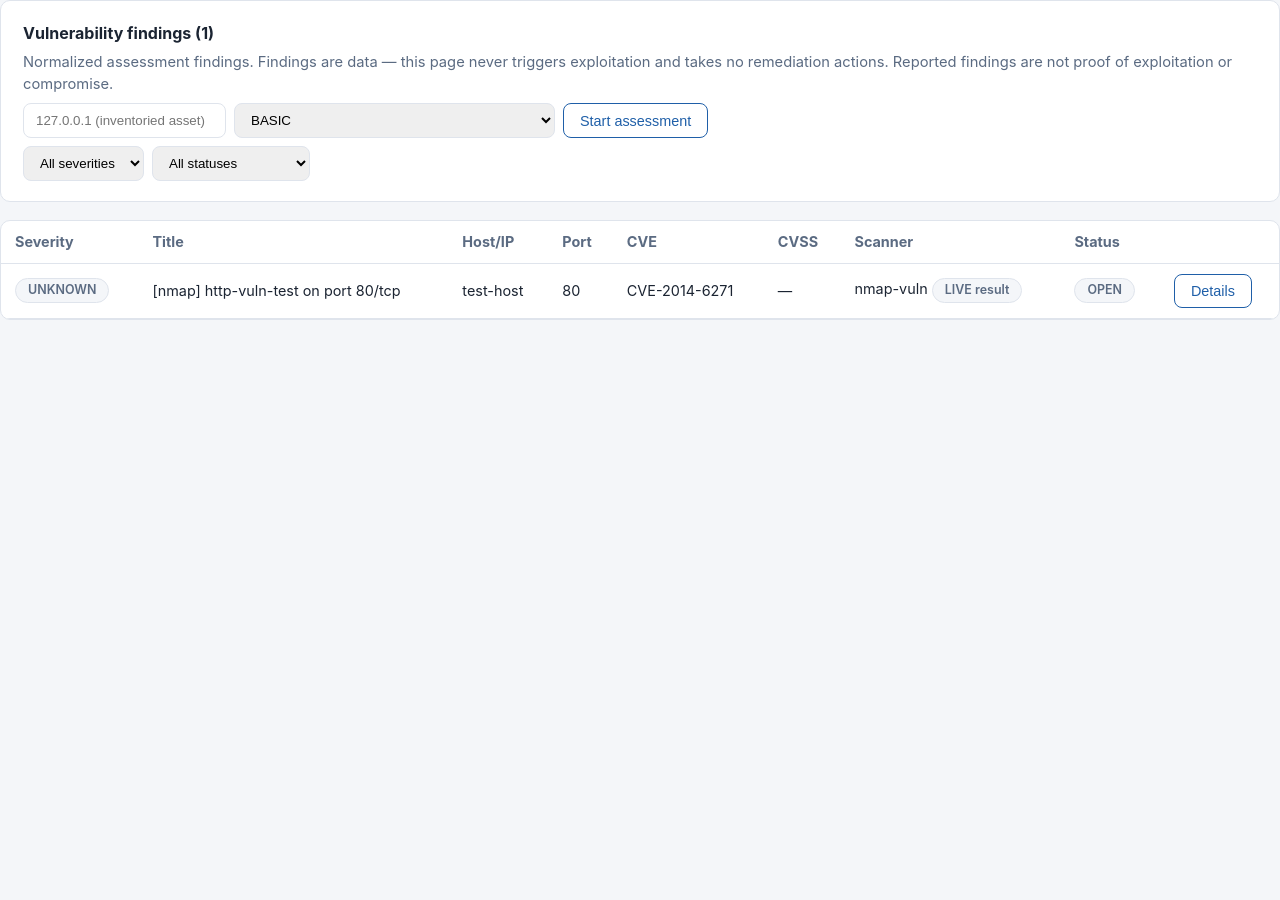
Test: Vulnerabilities assessment flow (Step 22) › distinguishes LIVE from MOCK results and shows versions
This screenshot has width=1280, height=900.
Step 1. Click the button "Details" → (1213, 291), box top-left (1174, 274), bottom-right (1252, 308)
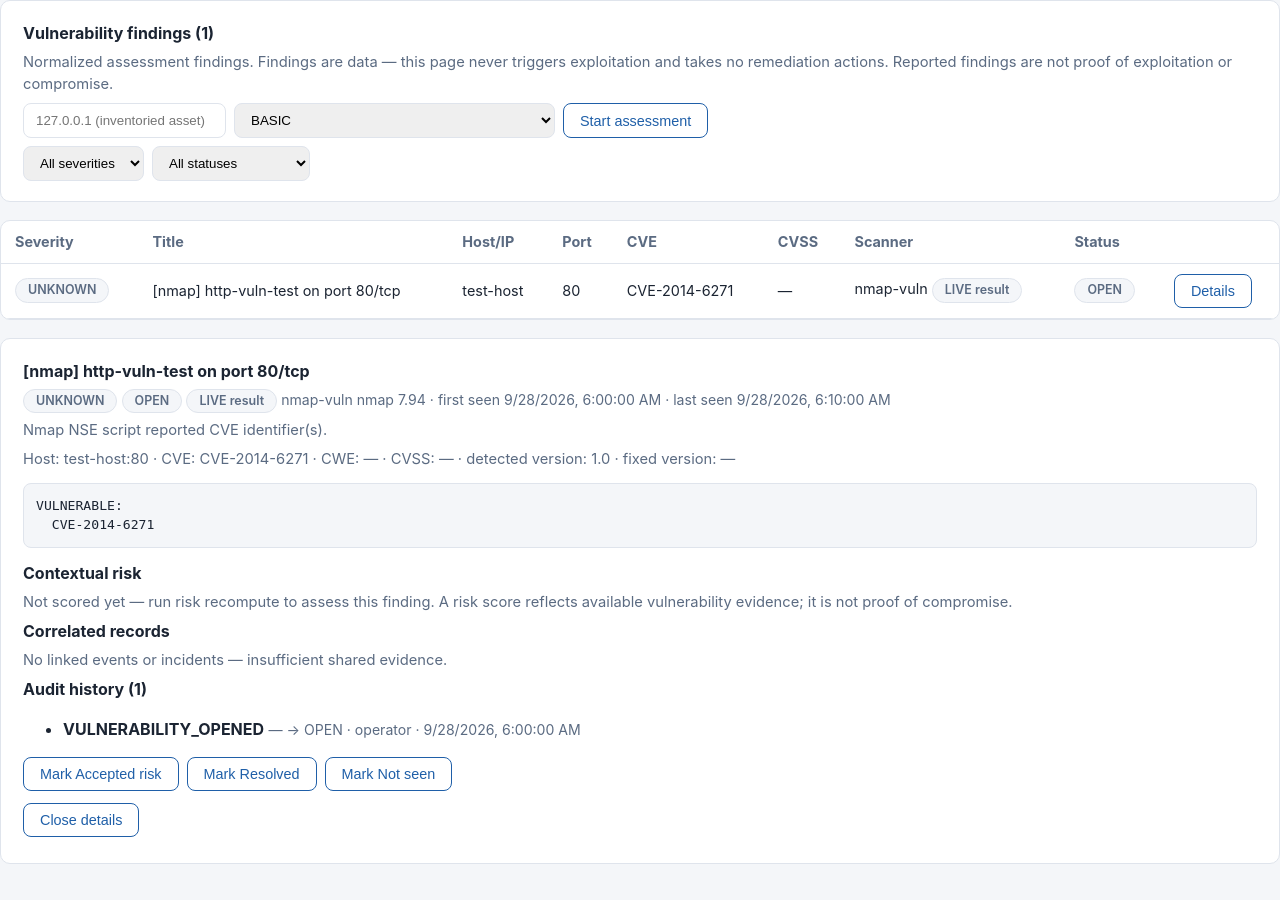
Expected: the text "not proof of exploitation" is shown, top-left (23, 53), bottom-right (1232, 93)
Result: the text "nmap 7.94" is shown at top-left (353, 391), bottom-right (426, 408)
Result: the text "fixed version: —" is shown at top-left (23, 450), bottom-right (735, 468)
